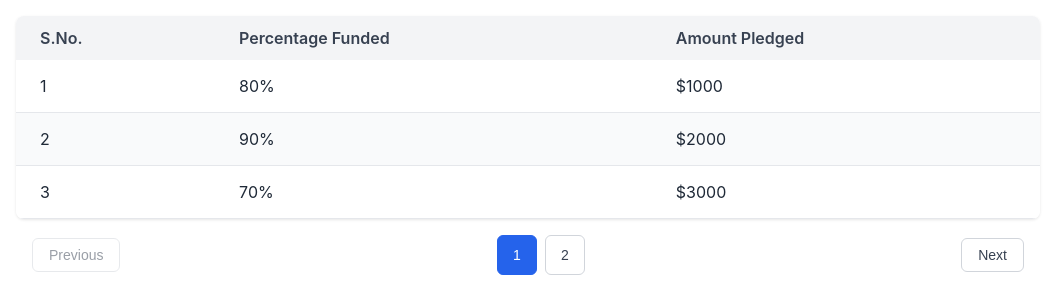
Table Component › pagination › next button is disabled on last page
What coordinates should you click on to do the following:
click the button "Next"
I would click on:
 (993, 255)
Its box is [961,238,1024,272].
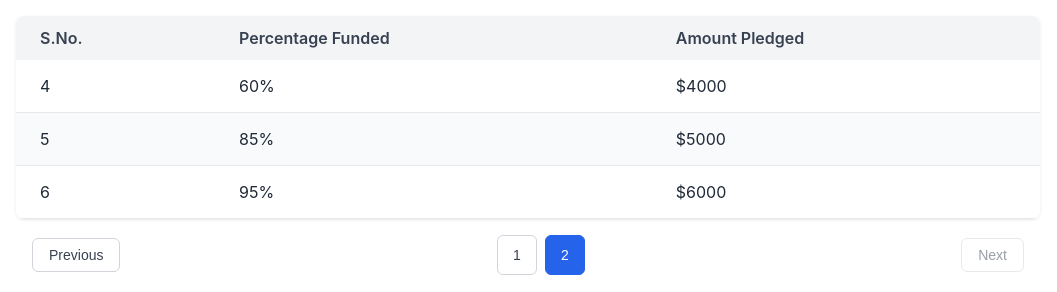
Result: the button "Next" is disabled at [961,238,1024,272]
